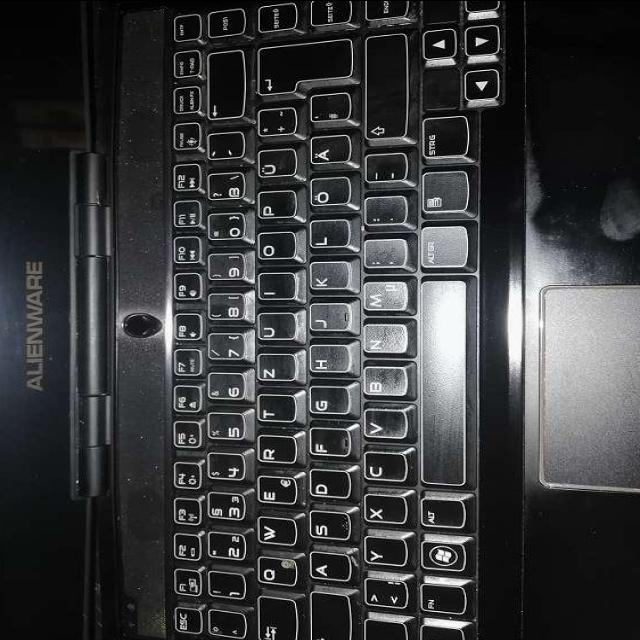0: (205, 212, 246, 244)
1: (205, 572, 245, 601)
2: (205, 532, 246, 562)
3: (205, 493, 245, 523)
4: (206, 453, 244, 481)
5: (207, 413, 245, 441)
6: (205, 372, 245, 402)
7: (205, 332, 246, 362)
8: (205, 293, 246, 323)
9: (205, 253, 245, 283)
a: (307, 553, 349, 582)
accent: (205, 133, 243, 162)
ae: (306, 136, 350, 166)
alt-left: (418, 498, 464, 530)
altgr-right: (417, 225, 467, 272)
b: (359, 365, 408, 399)
c: (360, 453, 406, 483)
caret: (205, 610, 245, 640)
comma: (360, 238, 406, 272)
d: (307, 470, 349, 499)
del: (205, 52, 243, 121)
e: (254, 476, 296, 506)
enter: (254, 38, 354, 101)
f: (306, 429, 350, 459)
g: (307, 385, 351, 415)
h: (307, 344, 351, 376)
hash: (308, 94, 350, 124)
i: (255, 273, 295, 301)
j: (305, 304, 351, 334)
k: (307, 262, 351, 292)
keyboard: (163, 0, 505, 640)
l: (307, 220, 351, 250)
less: (360, 578, 406, 610)
m: (359, 281, 409, 313)
minus: (361, 153, 407, 185)
n: (360, 322, 408, 356)
o: (255, 232, 295, 262)
oe: (306, 177, 350, 209)
p: (255, 191, 295, 220)
plus: (254, 108, 296, 138)
point: (361, 196, 407, 228)
q: (254, 557, 295, 587)
r: (255, 435, 295, 465)
s: (307, 512, 349, 541)
shift-left: (363, 617, 409, 640)
shift-lock: (308, 592, 349, 640)
shift-right: (361, 33, 407, 145)
space: (418, 278, 467, 488)
ss: (205, 173, 245, 203)
strg-left: (420, 620, 464, 640)
strg-right: (418, 115, 468, 161)
t: (254, 394, 295, 424)
tab: (255, 596, 296, 640)
u: (254, 313, 296, 343)
ue: (255, 150, 296, 180)
v: (360, 409, 406, 441)
w: (255, 517, 295, 547)
x: (360, 495, 406, 525)
y: (361, 537, 405, 567)
z: (254, 353, 298, 383)
